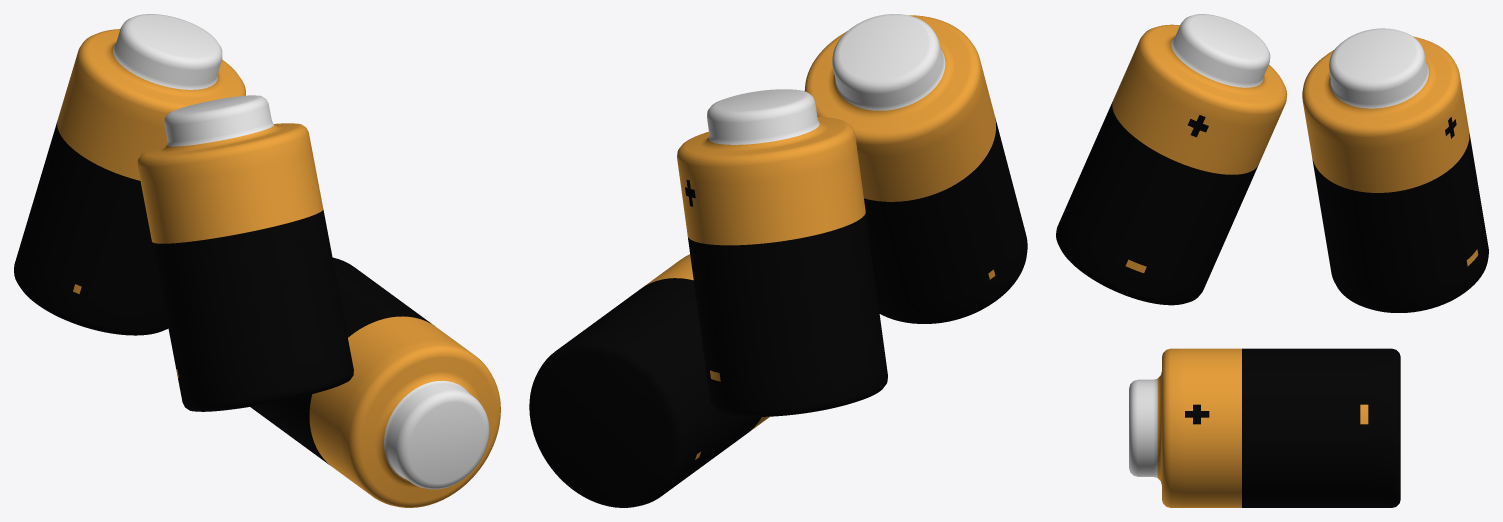
Rendered from Batteries001.fbx.
3 views of the same model, side by side, from view 1: azimuth 30°, elevation 25°; view 2: azimuth 150°, elevation 25°; view 3: azimuth 270°, elevation 25° (orthographic). The views are drawn at different scales.
Parts seen in each view (by area): view 1: Object.001, Object.002, Object; view 2: Object.002, Object.001, Object; view 3: Object.001, Object.002, Object.
Part boxes in pixels (x1,y1,x2,y2): Object.001: (137,95,353,411); Object.002: (14,14,245,335); Object: (250,257,500,507); Object.002: (677,89,887,416); Object.001: (804,14,1027,323); Object: (529,254,769,507); Object.001: (1056,14,1287,305); Object.002: (1302,28,1488,312); Object: (1129,348,1400,507).
Size of the model in its own units: 455 by 552 by 543.
